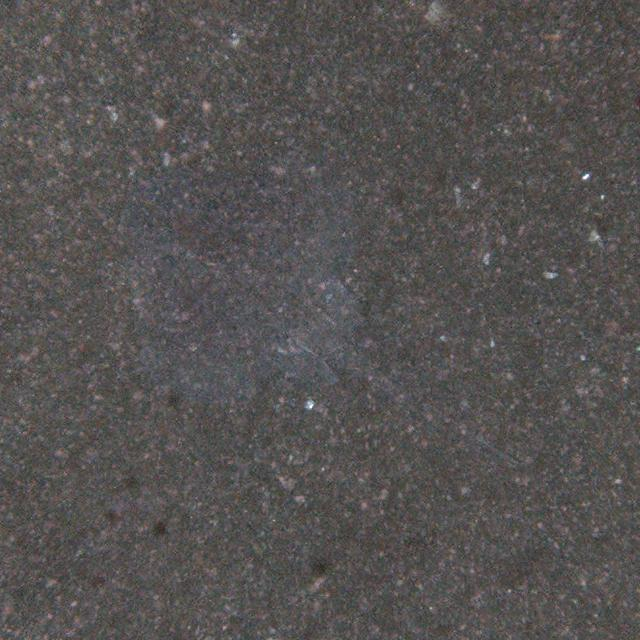skate: (126, 160, 526, 466)
